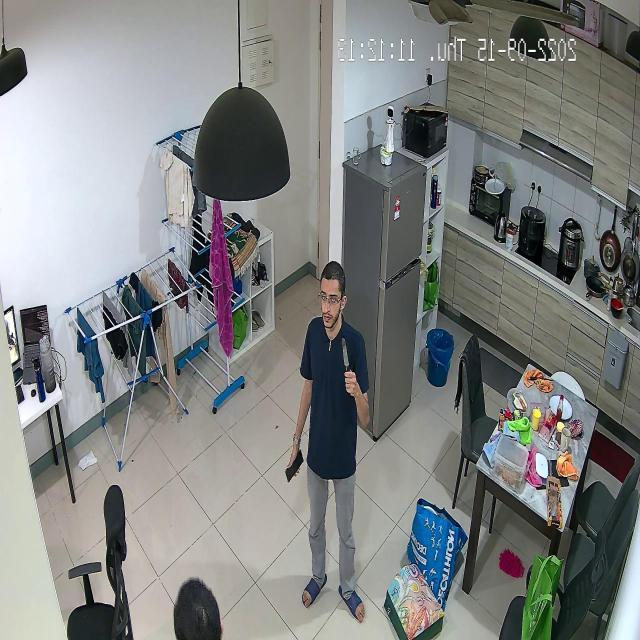Knife: (337, 336, 363, 382)
